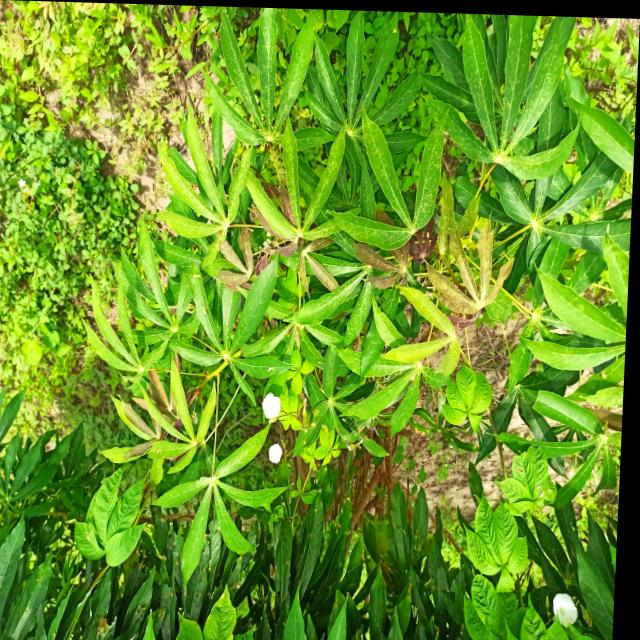Maleza: (0, 0, 144, 198), (0, 50, 132, 246), (0, 148, 72, 402), (449, 563, 573, 640), (66, 463, 144, 568), (460, 494, 526, 598), (499, 442, 562, 527), (436, 362, 498, 438), (166, 590, 247, 640), (302, 425, 349, 465), (277, 387, 303, 434), (283, 349, 307, 384)
Mosaico: (429, 227, 508, 309), (359, 241, 414, 292), (213, 235, 264, 281)
Mosca: (570, 245, 592, 260), (262, 360, 275, 375), (201, 302, 211, 320), (596, 370, 610, 381), (189, 271, 200, 280)
